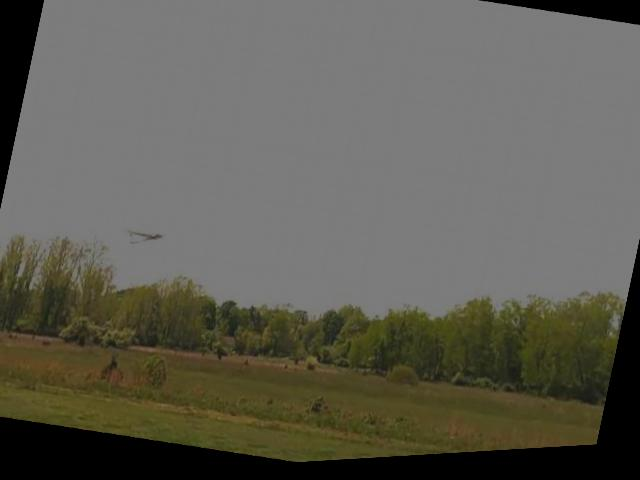iha: (118, 212, 177, 260)
